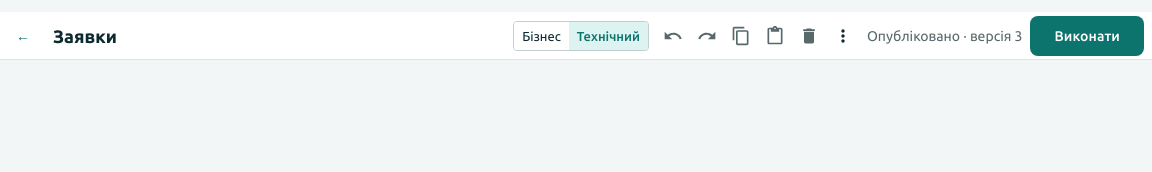
Test: EditorToolbarComponent › перейменування: клік → поле, Enter віддає нову назву, Esc скасовує
The image size is (1152, 172).
Click the button "Заявки" at (85, 36), box [46,16,124,56]
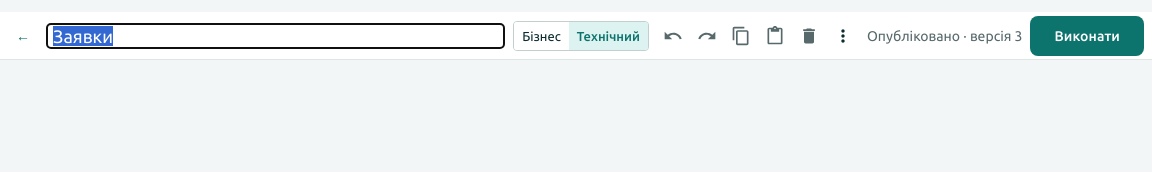
Replace the text in the field named "Назва сценарію" with "Нова назва" at (276, 36), box [46,22,505,48]
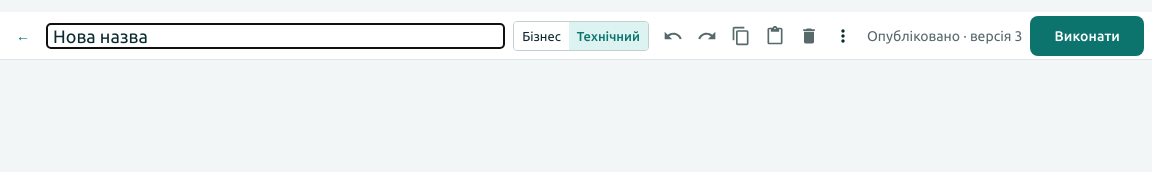
Press Enter in the field named "Назва сценарію", box [46,22,505,48]
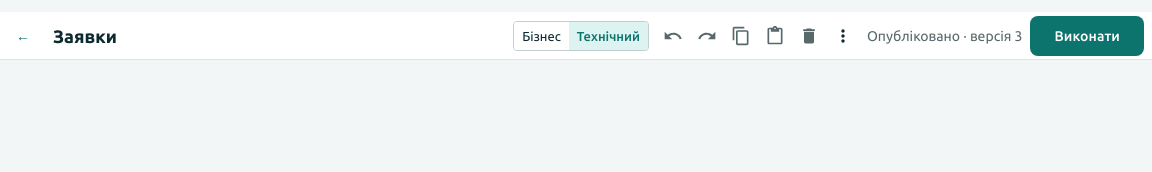
Click the button "Заявки" at (85, 36), box [46,16,124,56]
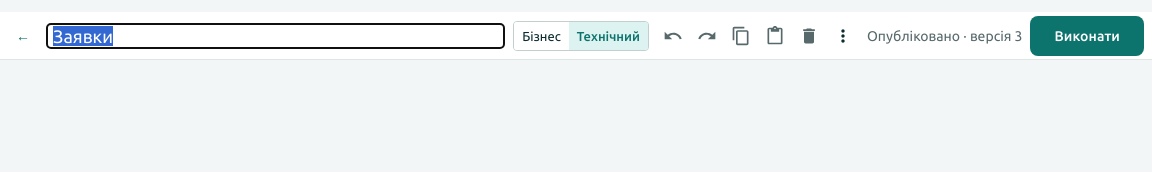
Replace the text in the field named "Назва сценарію" with "Інша" at (276, 36), box [46,22,505,48]
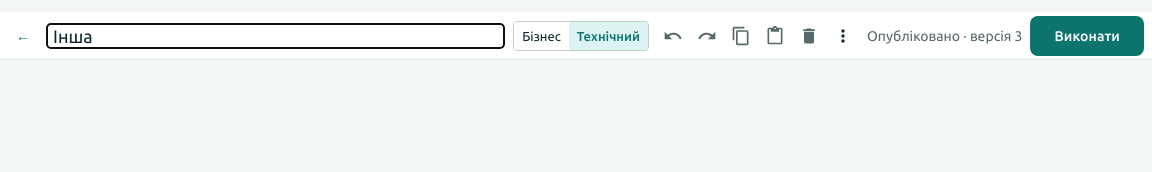
Press Escape in the field named "Назва сценарію", box [46,22,505,48]
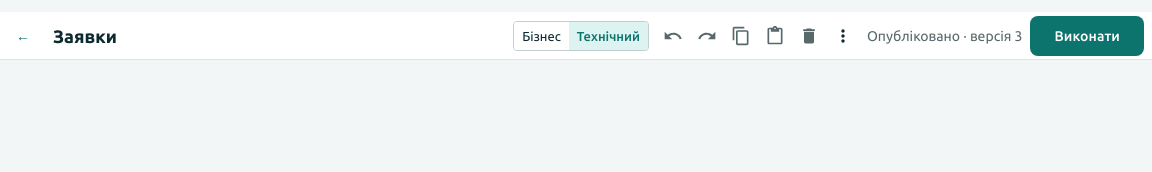
Expected: the heading "Заявки" is shown, [46,16,124,56]
